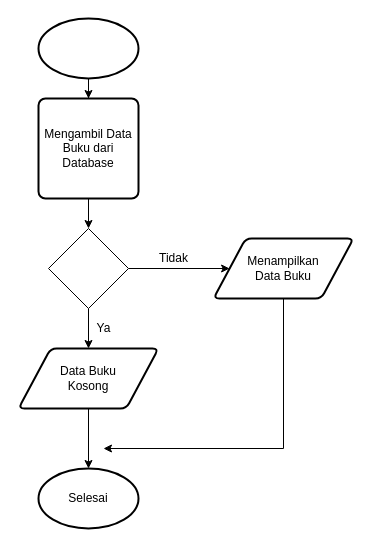
The diagram is 371 pixels wide and 546 high, and some of its shapes have lost their labels. The shapes that lost their labels are listed below. From the top down, each one's centre as x and y in pixels, then its label:
[88,48]: Mulai
[88,268]: Data Buku < 1
